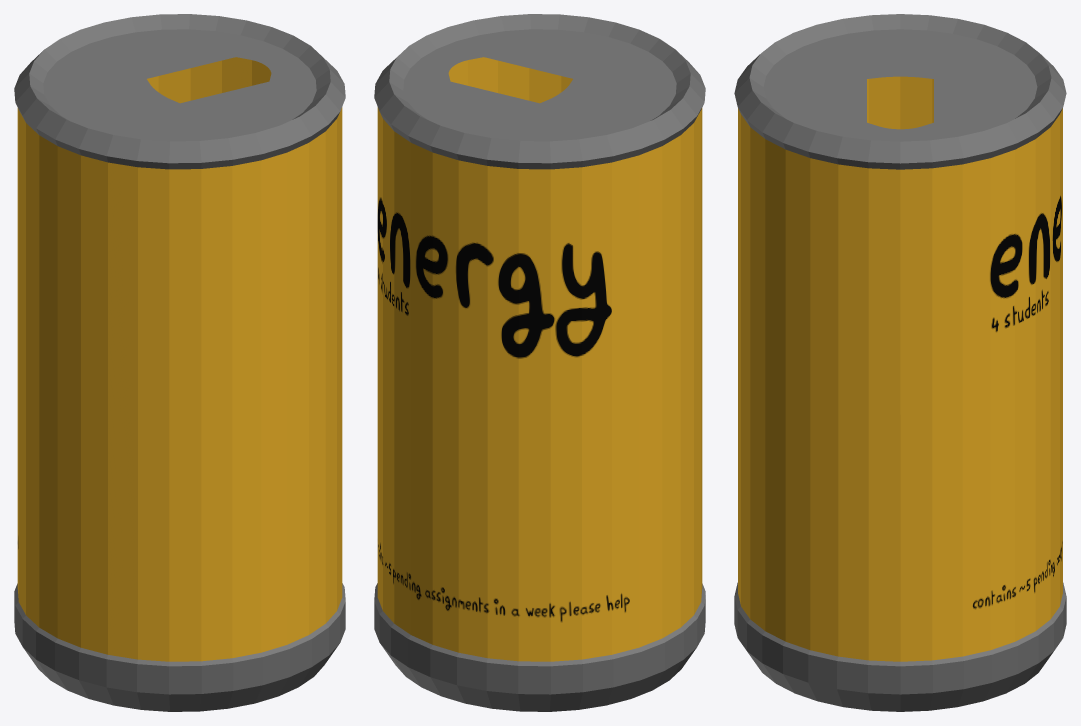
File: Can.glb
3 views of the same model, side by side, from view 1: azimuth 30°, elevation 25°; view 2: azimuth 150°, elevation 25°; view 3: azimuth 270°, elevation 25° (orthographic).
Parts seen in each view (by area): view 1: Cylinder; view 2: Cylinder; view 3: Cylinder.
Part boxes in pixels (<box>): Cylinder: <box>14,14,345,711</box>; Cylinder: <box>374,14,705,711</box>; Cylinder: <box>734,14,1066,711</box>.
Bounding box in the file's own units: 0.3297 × 0.6256 × 0.3297.
2 materials, 1 textured.
